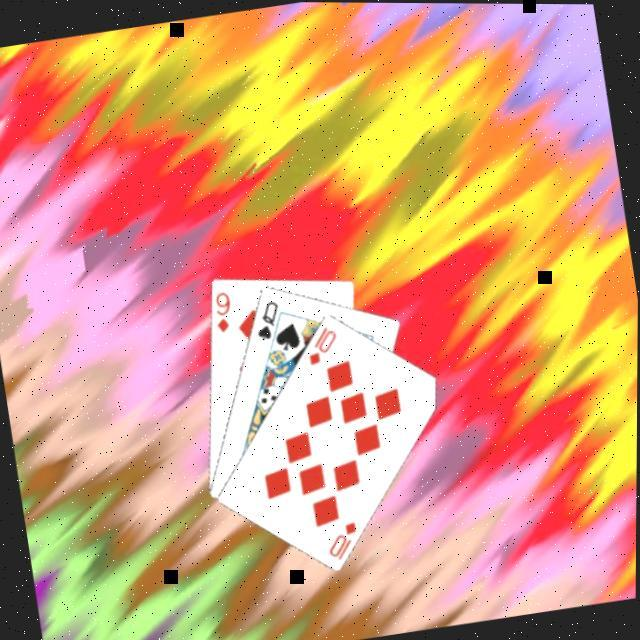10D: (322, 517, 367, 565), (302, 322, 344, 369)
9D: (209, 288, 239, 336)
QS: (250, 296, 288, 344)
